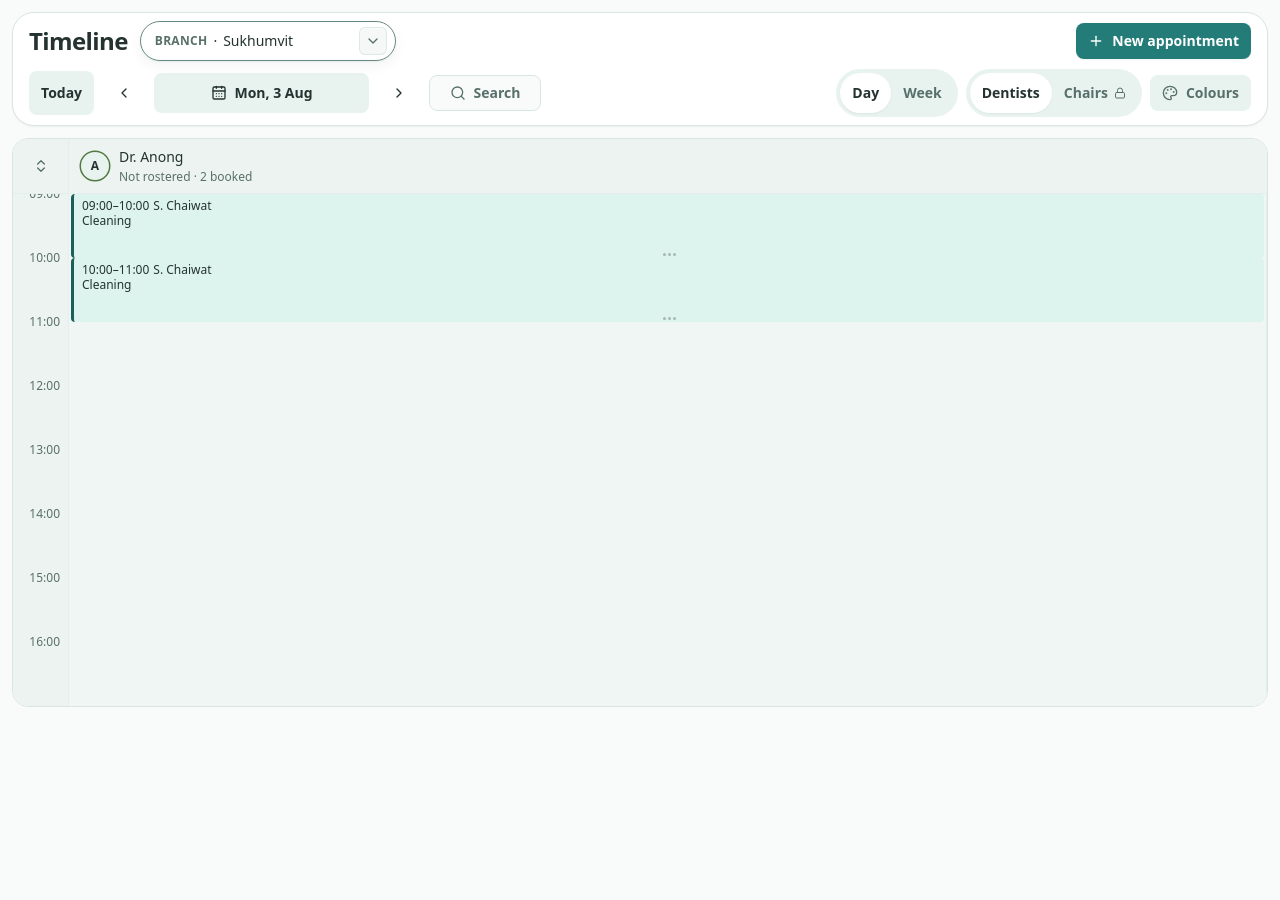
Scenario: TimelinePage › snaps a rejected drag back and marks the appointment it collided with
The image size is (1280, 900).
Press the mouse on the button "09:00–10:00 S. Chaiwat Cleaning" at (116, 206), box [71,194,1264,258]
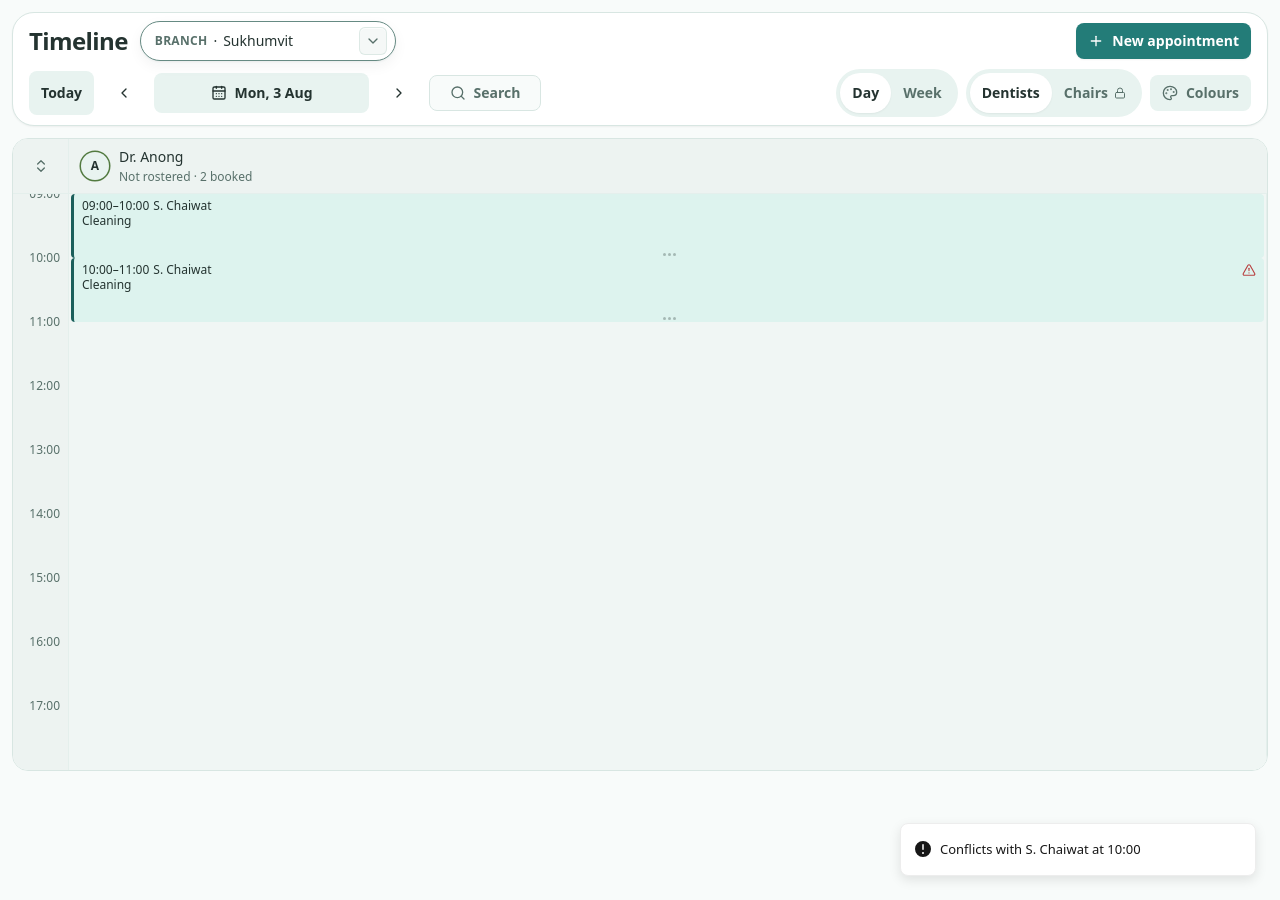
Expected: the text "Conflicts with S. Chaiwat at 10:00" is shown, [940,840,1141,859]
Expected: the picture named "Conflict" is shown, [1242,262,1256,276]
